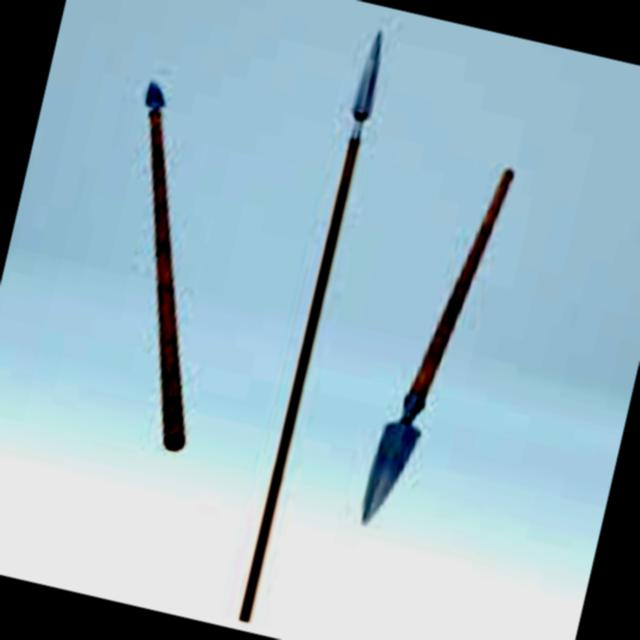spear: (213, 19, 423, 628), (48, 60, 288, 462), (346, 132, 558, 552)
